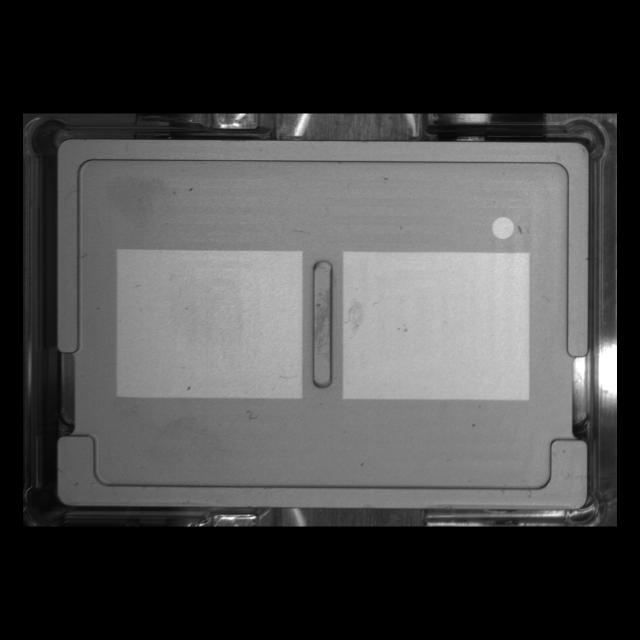door: (45, 423, 603, 520)
point: (488, 208, 522, 244)
